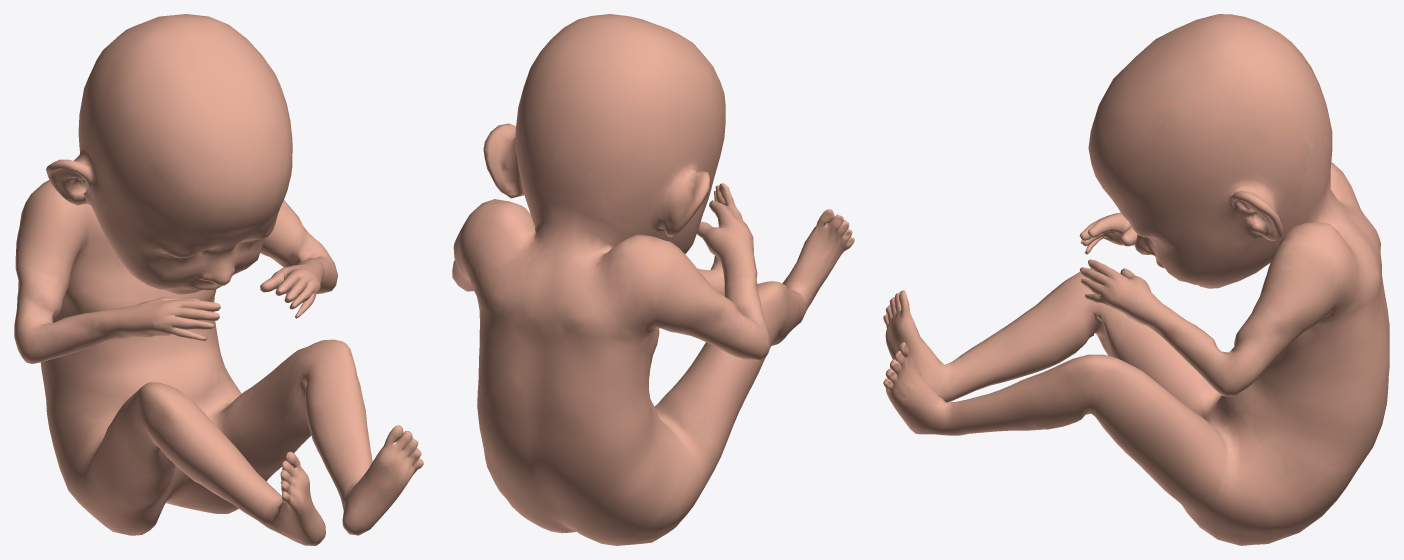
3 renders of one model, left to right at view 1: azimuth 30°, elevation 25°; view 2: azimuth 150°, elevation 25°; view 3: azimuth 270°, elevation 25°, orthographic.
Parts seen in each view (by area): view 1: Baby; view 2: Baby; view 3: Baby.
Part boxes in pixels (bbox=[...]): Baby: bbox=[14, 14, 423, 545]; Baby: bbox=[452, 14, 854, 545]; Baby: bbox=[883, 14, 1389, 545].
Bounding box in the file's own units: 0.1899 × 0.2913 × 0.2681.
Materials: 1 (1 with a texture image).
